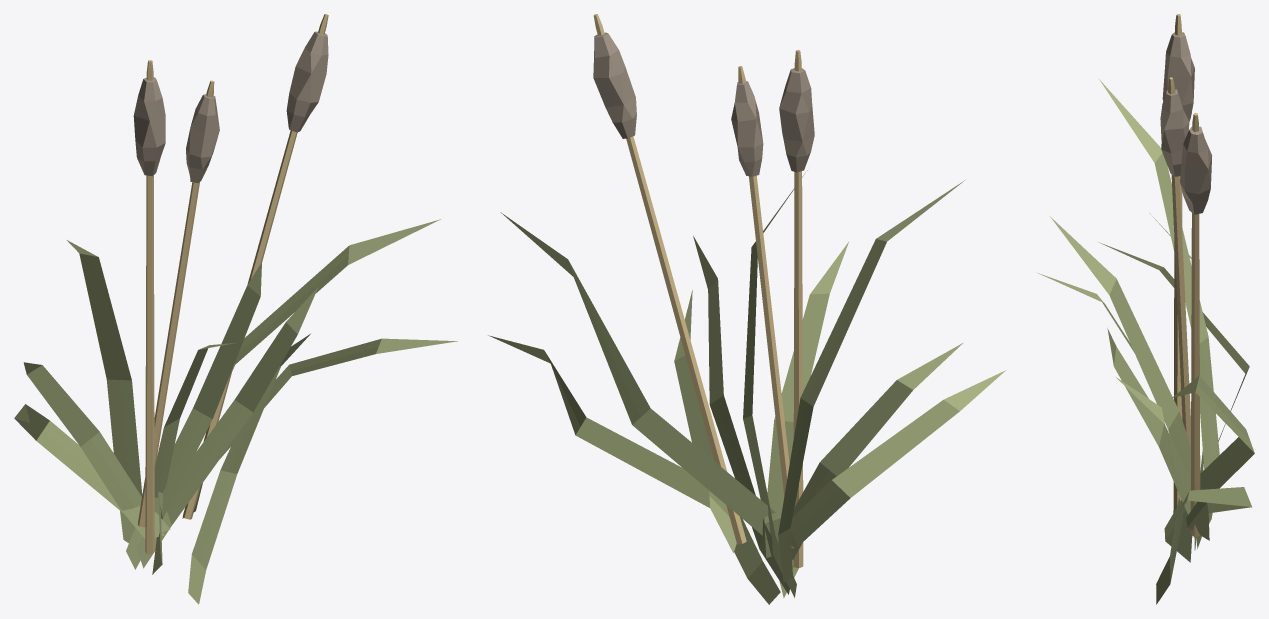
Rendered from ER_Asset_Reed03.fbx.
3 renders of one model, left to right at view 1: azimuth 30°, elevation 25°; view 2: azimuth 150°, elevation 25°; view 3: azimuth 270°, elevation 25°, orthographic. The views are drawn at different scales.
Parts seen in each view (by area): view 1: polySurface6727; view 2: polySurface6727; view 3: polySurface6727.
Part boxes in pixels (x1,y1,x2,y2): polySurface6727: [14, 14, 457, 604]; polySurface6727: [488, 14, 1005, 604]; polySurface6727: [1038, 14, 1254, 604].
Bounding box in the file's own units: 2.08 × 2.34 × 0.8176.
